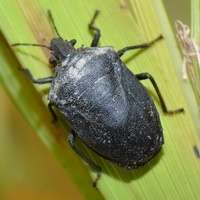insect: (13, 10, 182, 185), (175, 20, 199, 137)
